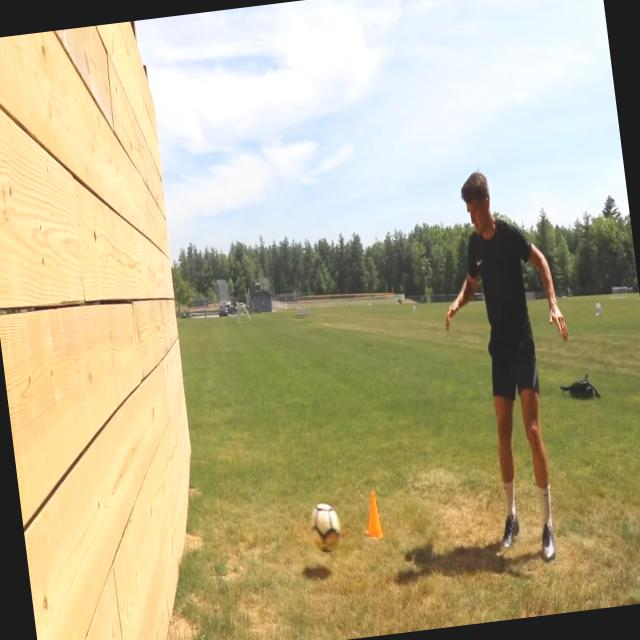Soccer Ball: (307, 501, 344, 556)
